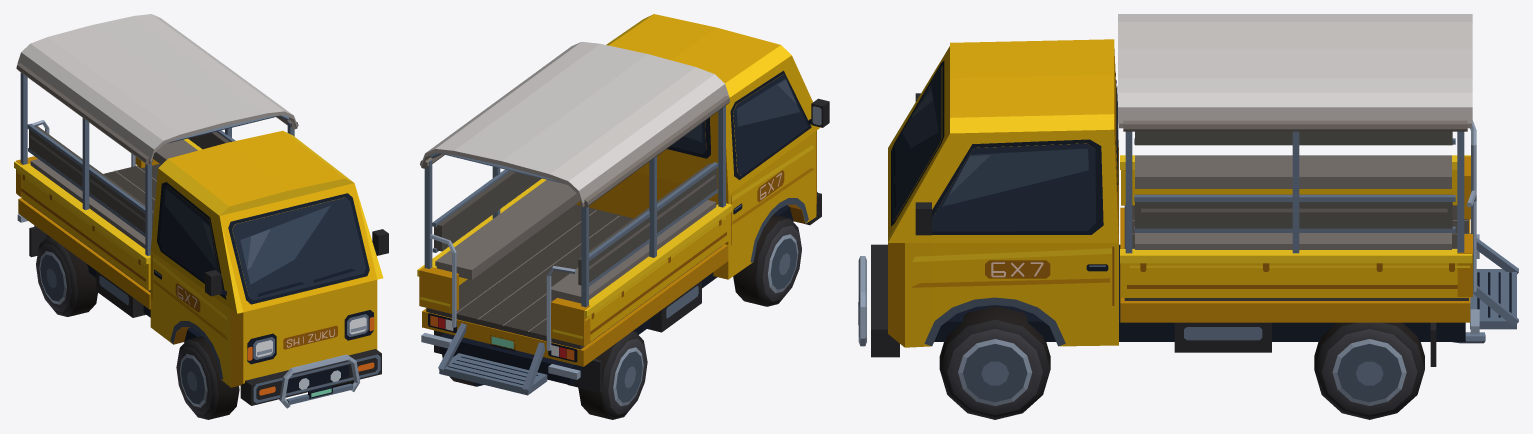
Rendered from multicab-yellow.glb.
3 views of the same model, side by side, from view 1: azimuth 30°, elevation 25°; view 2: azimuth 150°, elevation 25°; view 3: azimuth 270°, elevation 25° (orthographic). The views are drawn at different scales.
Visible parts, largest first — view 1: Shizuku 6x7 - Yellow; view 2: Shizuku 6x7 - Yellow; view 3: Shizuku 6x7 - Yellow.
Boxes of the visible parts, x1,y1,x2,y2 form: Shizuku 6x7 - Yellow: (14,14,388,419); Shizuku 6x7 - Yellow: (417,14,829,419); Shizuku 6x7 - Yellow: (858,14,1518,419).
Size of the model in its own units: 1.71 by 2.24 by 4.13.
1 material, 1 textured.
